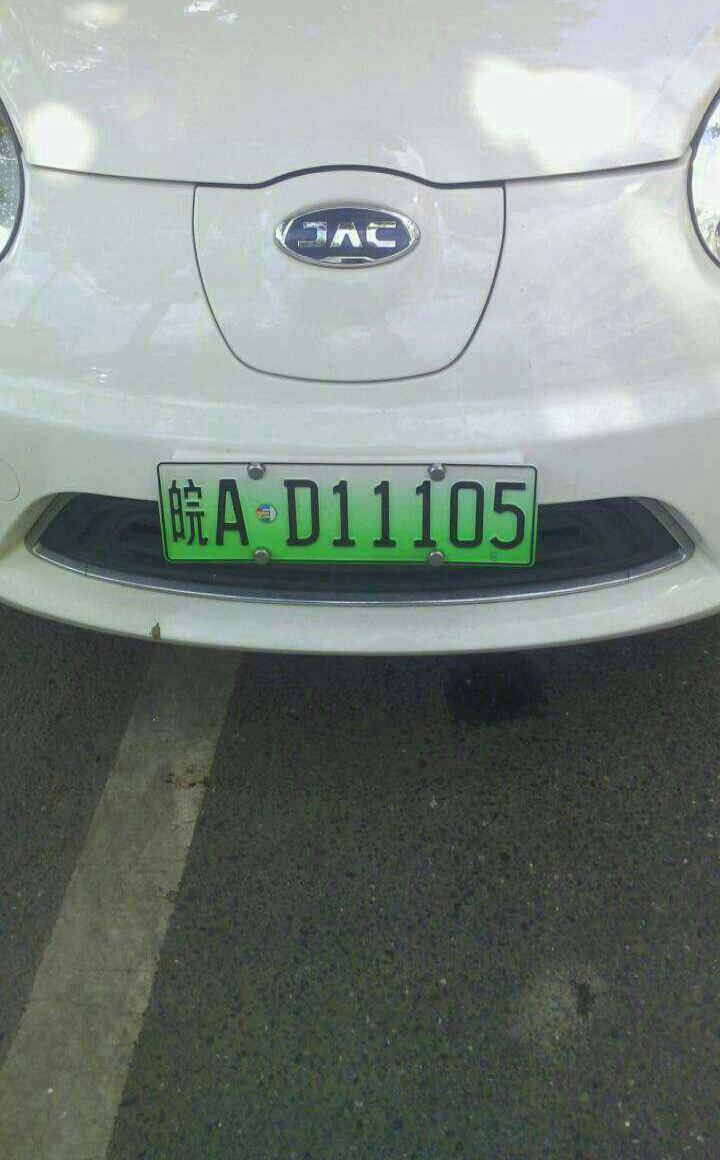car_id: (157, 464, 534, 566)
